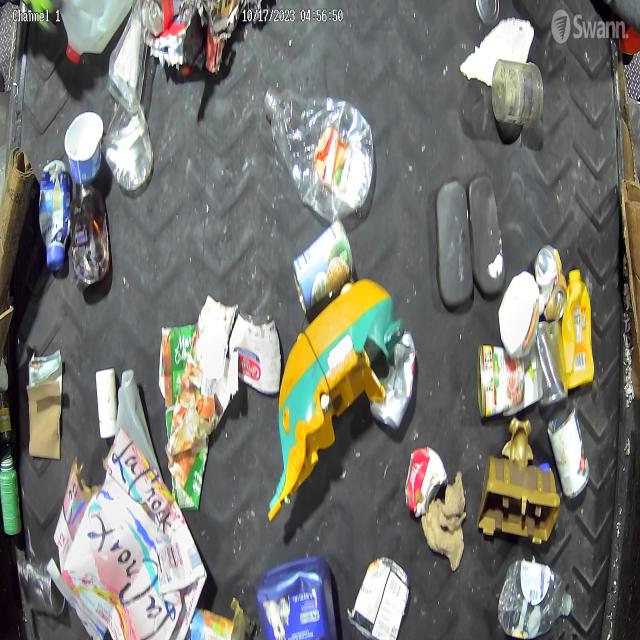can: (291, 218, 353, 314), (228, 310, 282, 396), (371, 328, 416, 430), (547, 405, 590, 499), (476, 343, 526, 420), (405, 444, 449, 518), (16, 556, 66, 616), (535, 244, 566, 324), (475, 0, 500, 28)
milk_jug: (60, 0, 139, 63)
non_white_jug: (258, 556, 337, 640), (561, 268, 595, 391)
plastic_bottle: (260, 86, 373, 221), (496, 560, 570, 638)
